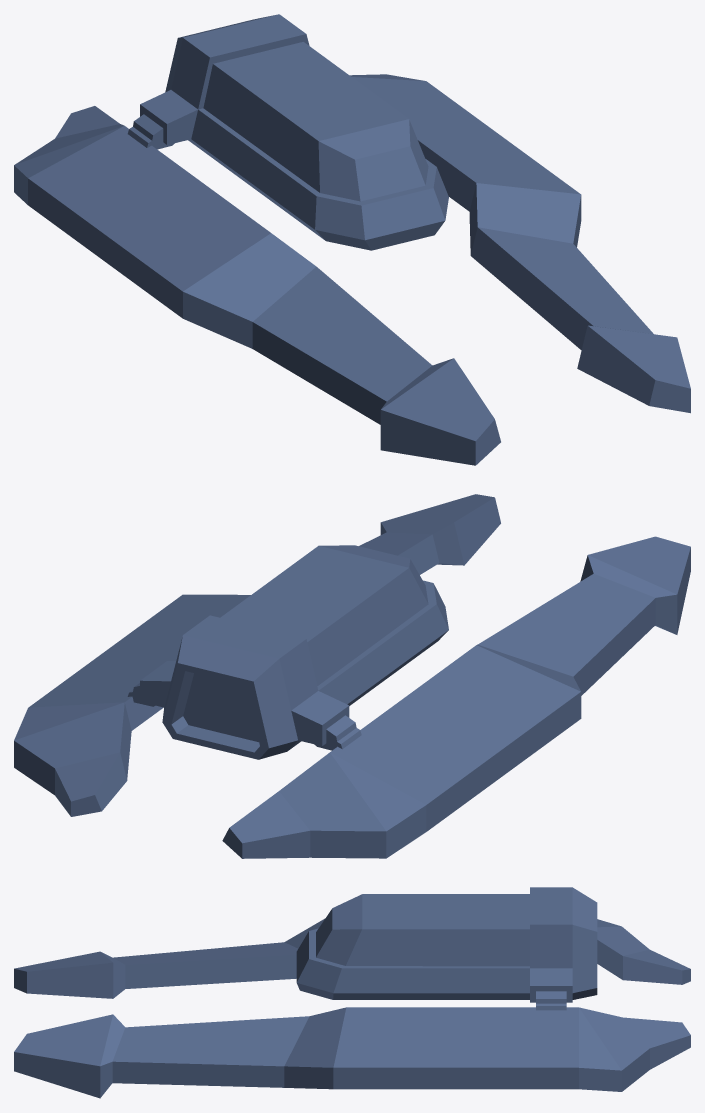
Rendered from Enemy1.FBX.
3 views of the same model, one above another, from view 1: azimuth 30°, elevation 25°; view 2: azimuth 150°, elevation 25°; view 3: azimuth 270°, elevation 25° (orthographic). The views are drawn at different scales.
Parts seen in each view (by area): view 1: Box002; view 2: Box002; view 3: Box002.
Boxes of the visible parts, x1,y1,x2,y2 form: Box002: (14, 14, 690, 465); Box002: (14, 494, 690, 858); Box002: (14, 887, 690, 1098).
Bounding box in the file's own units: 149 × 60.69 × 276.
